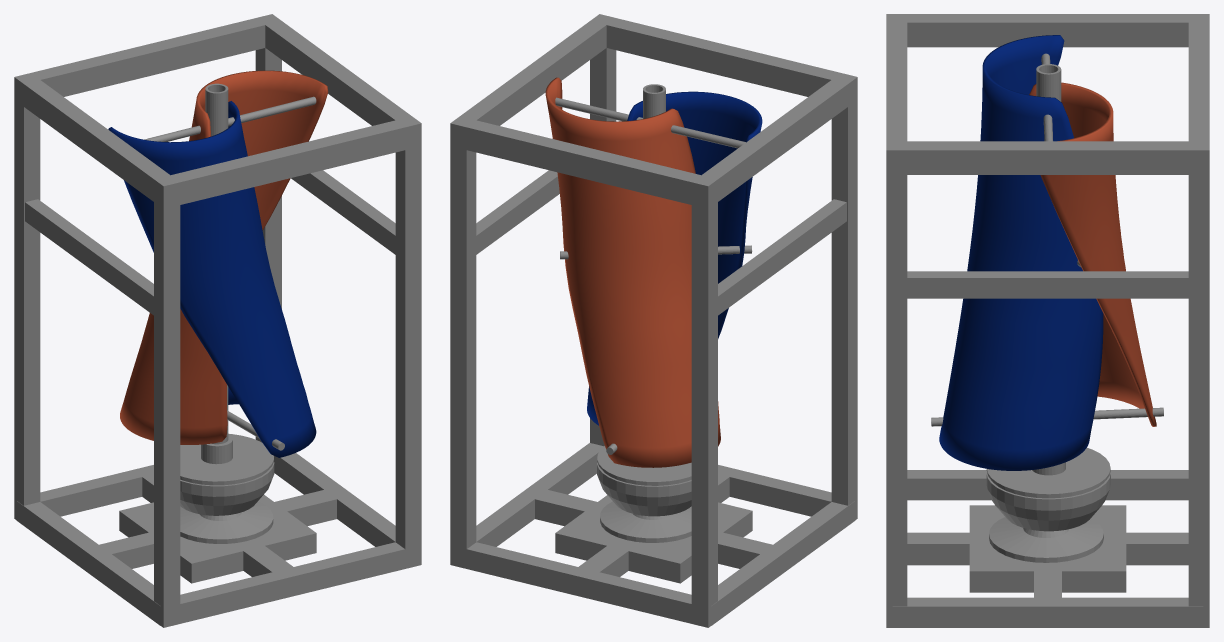
3 renders of one model, left to right at view 1: azimuth 30°, elevation 25°; view 2: azimuth 150°, elevation 25°; view 3: azimuth 270°, elevation 25°, orthographic. The views are drawn at different scales.
Parts seen in each view (by area): view 1: Cube, Cylinder.001, Cylinder; view 2: Cube, Cylinder.001, Cylinder; view 3: Cube, Cylinder.001, Cylinder.
Boxes of the visible parts, <box> form: Cube: <box>14,14,421,627</box>; Cylinder.001: <box>108,70,328,457</box>; Cylinder: <box>180,83,274,543</box>; Cube: <box>450,14,857,627</box>; Cylinder.001: <box>545,77,762,467</box>; Cylinder: <box>597,84,691,542</box>; Cube: <box>886,14,1209,627</box>; Cylinder.001: <box>931,35,1163,470</box>; Cylinder: <box>986,64,1110,562</box>.
Size of the model in its own units: 4.28 by 7.15 by 4.28.
